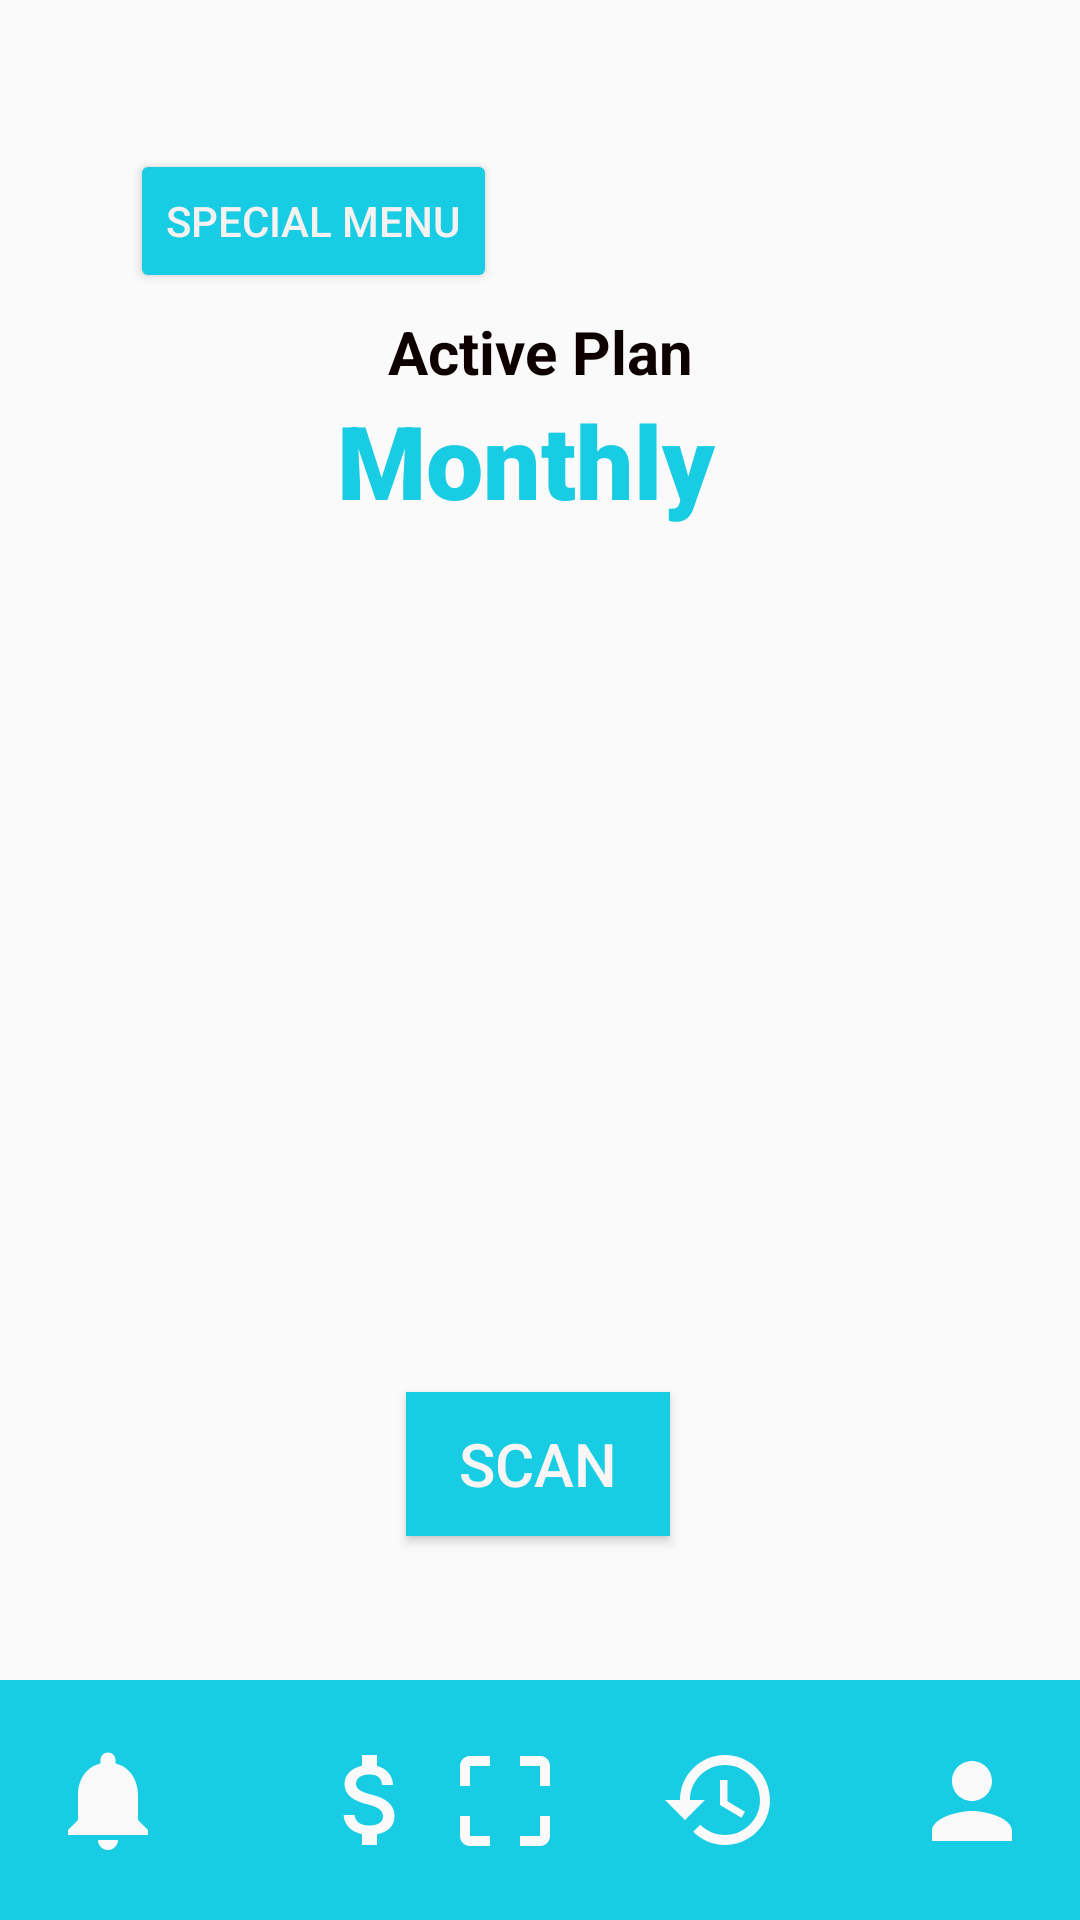

Where to tap for icons on this 1080w x 1920h app screen, as [x,y]:
attach money: [369,1800]
crop free: [505,1801]
history: [717,1800]
notifications: [108,1801]
person: [972,1801]
